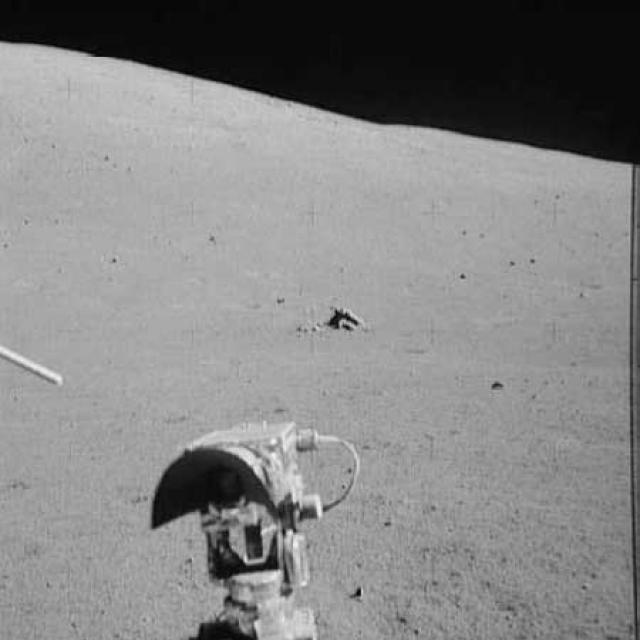artifact: (142, 414, 364, 638), (0, 335, 66, 391)
rock: (314, 299, 364, 344)
